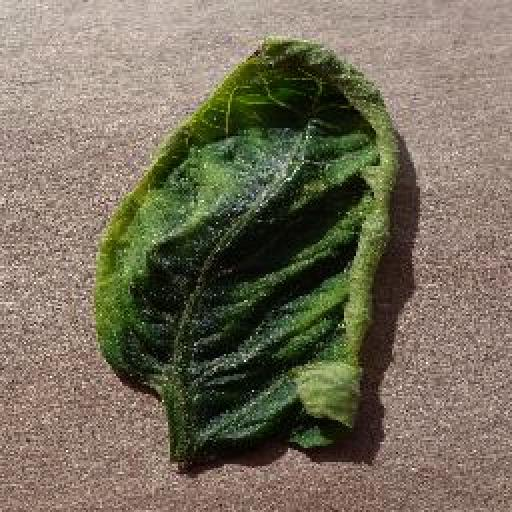disease_tomato: (90, 34, 406, 456)
